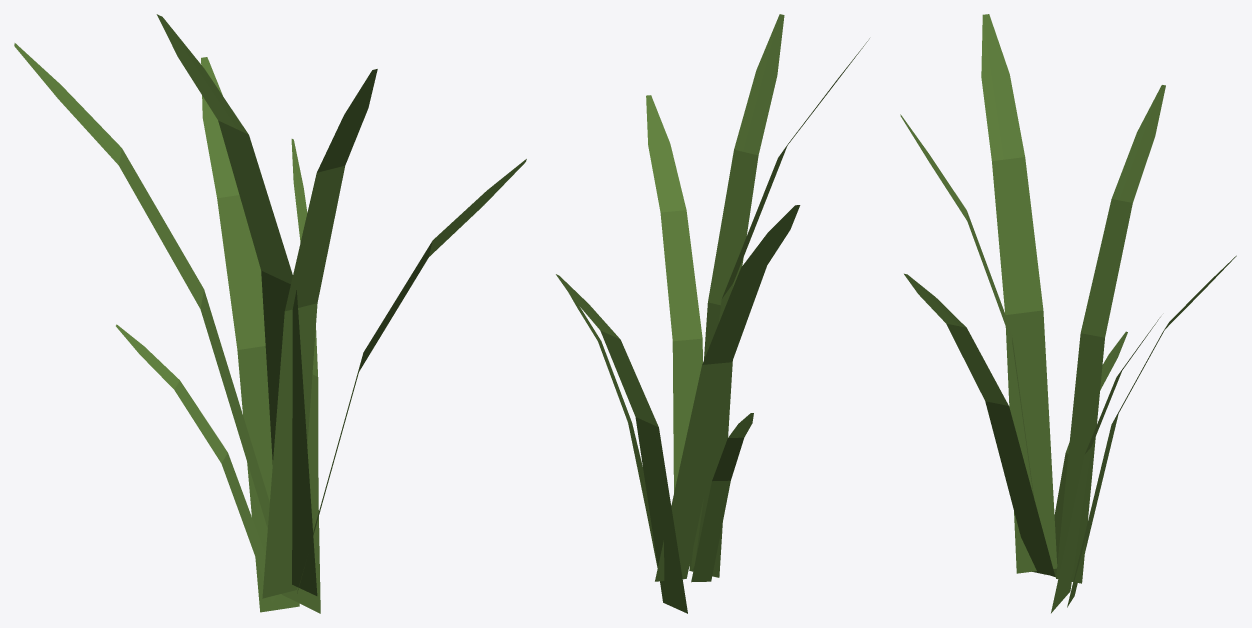
Rendered from kome0.5.fbx.
3 views of the same model, side by side, from view 1: azimuth 30°, elevation 25°; view 2: azimuth 150°, elevation 25°; view 3: azimuth 270°, elevation 25° (orthographic). The views are drawn at different scales.
Visible parts, largest first — view 1: 平面; view 2: 平面; view 3: 平面.
Boxes of the visible parts, x1,y1,x2,y2 form: 平面: (14,14,526,613); 平面: (556,14,869,613); 平面: (900,14,1236,613).
Size of the model in its own units: 123 by 229 by 134.
